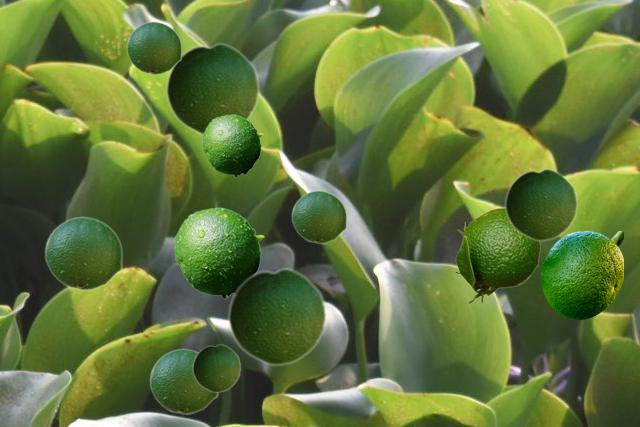dalandan: (227, 267, 326, 366), (165, 42, 259, 135), (454, 207, 539, 303), (174, 207, 263, 298), (541, 231, 622, 318), (44, 216, 122, 290), (504, 167, 577, 241), (149, 348, 218, 414), (202, 114, 262, 176), (291, 190, 346, 243), (126, 21, 181, 74), (192, 343, 240, 392)
